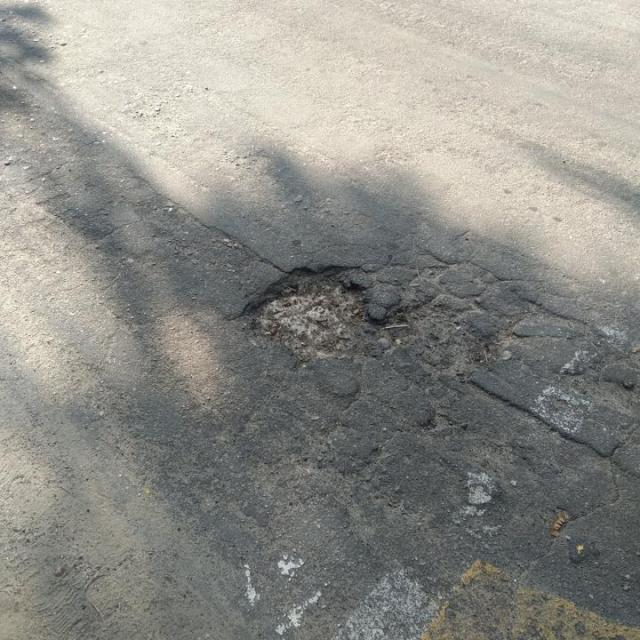Pothole: (230, 259, 377, 363), (381, 299, 501, 375)
